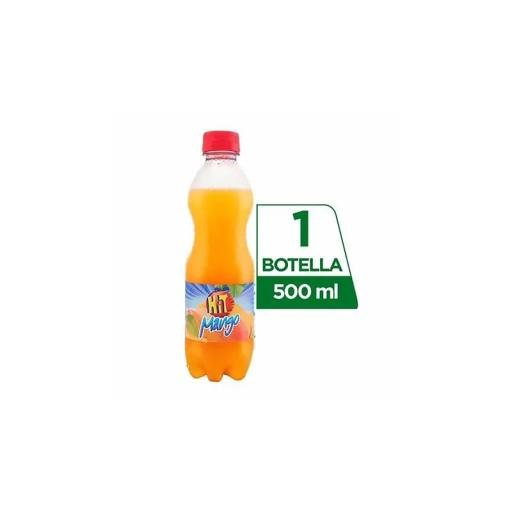JugoHM: (164, 114, 274, 392)
